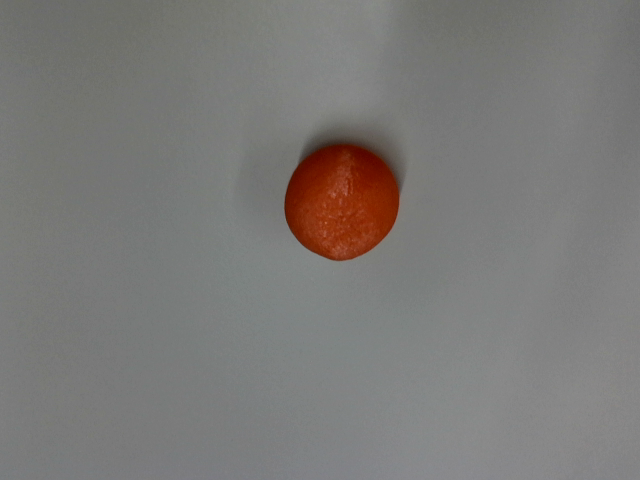orange: (262, 122, 421, 281)
